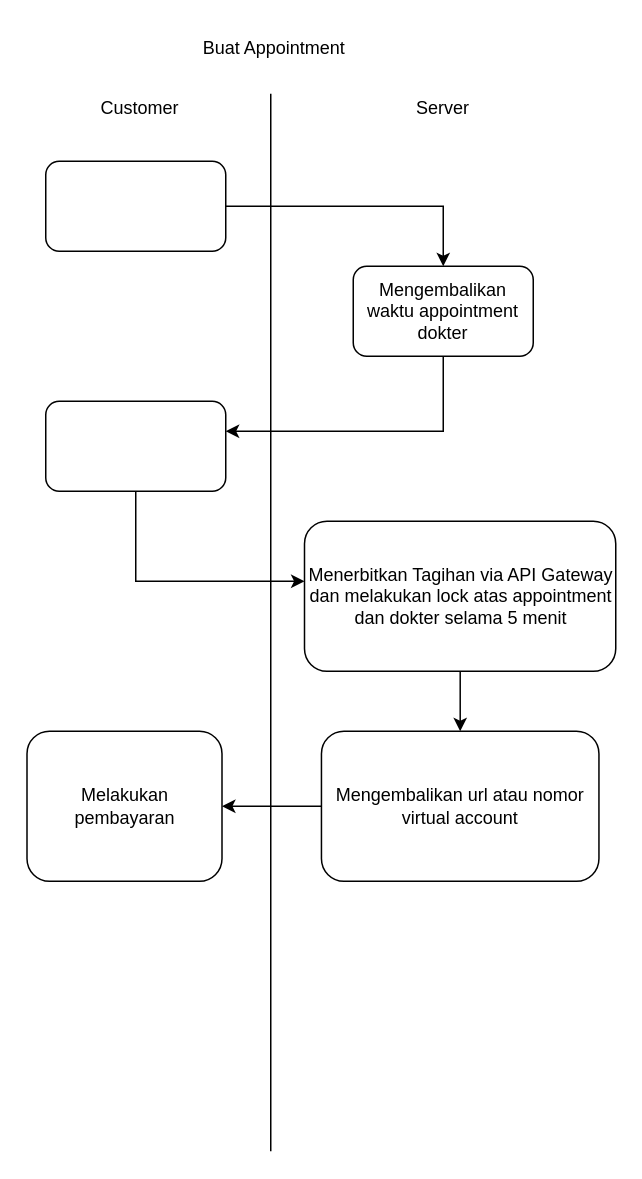
Image size: 642x1179. Some labels were removed from this diagram. The centre of each missing label's shape, as x and y in pixels:
Pilih Dokter (Umum spesialis): (x=135, y=205)
Pilih waktu appointment: (x=135, y=445)
